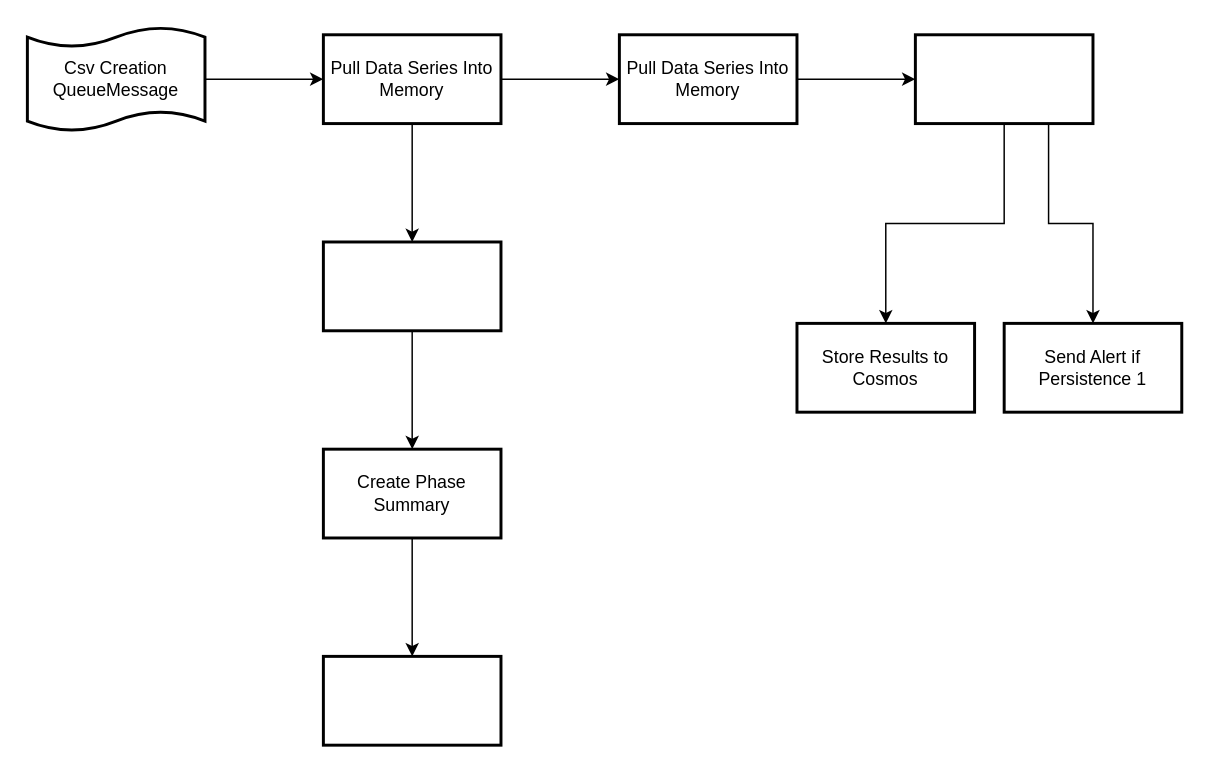
This 1208x771 diagram has some shape labels left out. Here are the shapes that lost their labels. From the top down, the centre of each, then its label:
At pixel 1003 78: "Calculate Custom Alert Results".
At pixel 411 286: "Create Blobs".
At pixel 411 700: "Create Summary Statistics".
